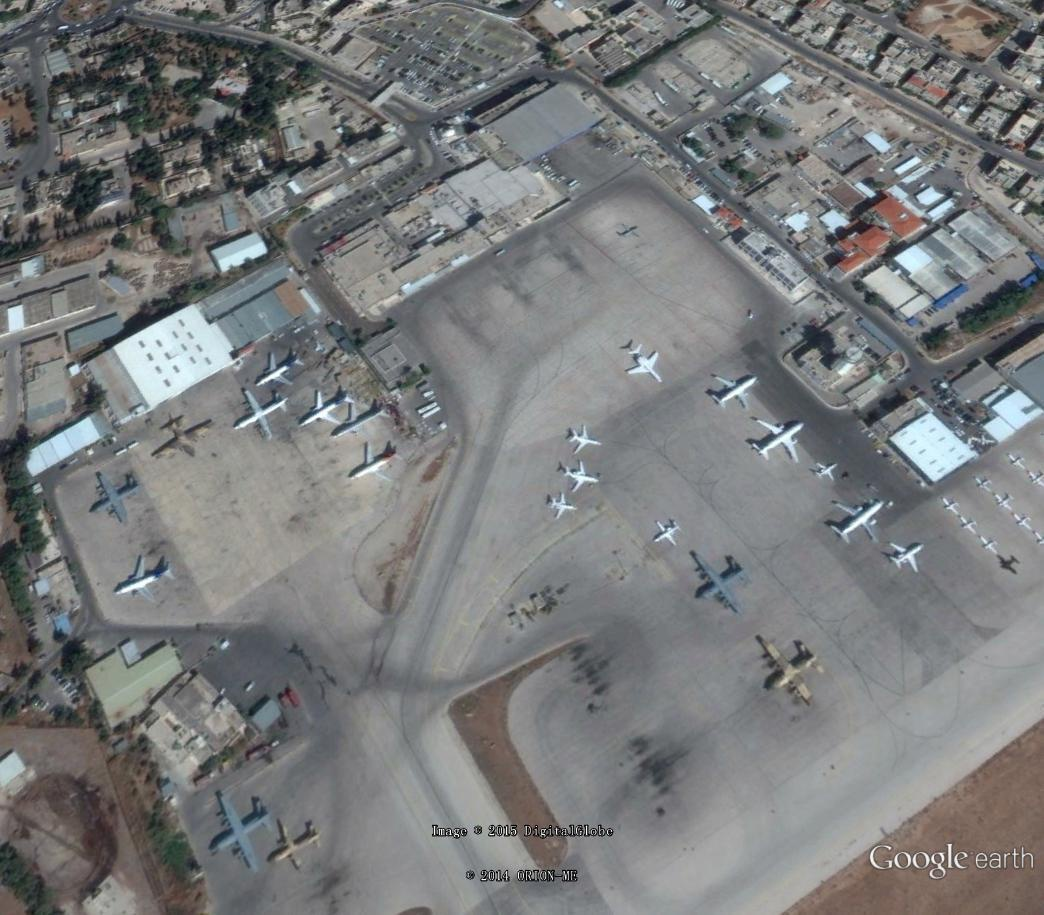aircraft: (204, 790, 283, 879), (754, 631, 832, 714), (687, 546, 754, 625), (111, 552, 183, 613), (228, 385, 294, 447), (321, 390, 396, 444), (88, 468, 151, 531), (823, 492, 892, 549), (292, 382, 358, 439), (267, 816, 327, 877), (744, 414, 811, 468), (150, 414, 219, 465), (250, 343, 313, 397), (345, 436, 405, 492), (703, 367, 765, 417), (622, 340, 670, 385), (556, 459, 606, 495), (885, 537, 928, 577), (564, 420, 609, 457), (544, 487, 585, 523), (652, 513, 687, 550), (811, 457, 841, 483), (615, 220, 646, 243), (1003, 450, 1033, 472), (991, 489, 1017, 514), (997, 553, 1024, 577), (1009, 510, 1036, 534), (970, 472, 996, 496), (939, 496, 966, 519), (978, 534, 1003, 558), (958, 514, 982, 537), (1026, 468, 1044, 490)
